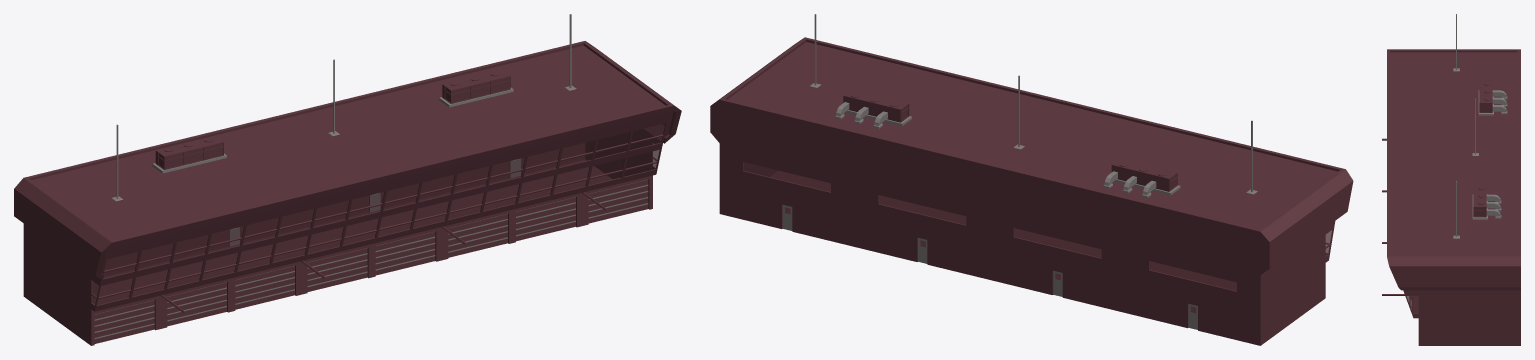
Rendered from building-race-track-long.fbx.
The picture shows the model from 3 angles, left to right: view 1: azimuth 30°, elevation 25°; view 2: azimuth 150°, elevation 25°; view 3: azimuth 270°, elevation 25°; orthographic projection. The views are drawn at different scales.
Visible parts, largest first — view 1: building-race-track-long; view 2: building-race-track-long; view 3: building-race-track-long.
Part boxes in pixels (<box>): building-race-track-long: <box>14,14,681,345</box>; building-race-track-long: <box>710,14,1353,345</box>; building-race-track-long: <box>1382,14,1520,345</box>.
Bounding box in the file's own units: 49.58 × 15.51 × 13.58.
